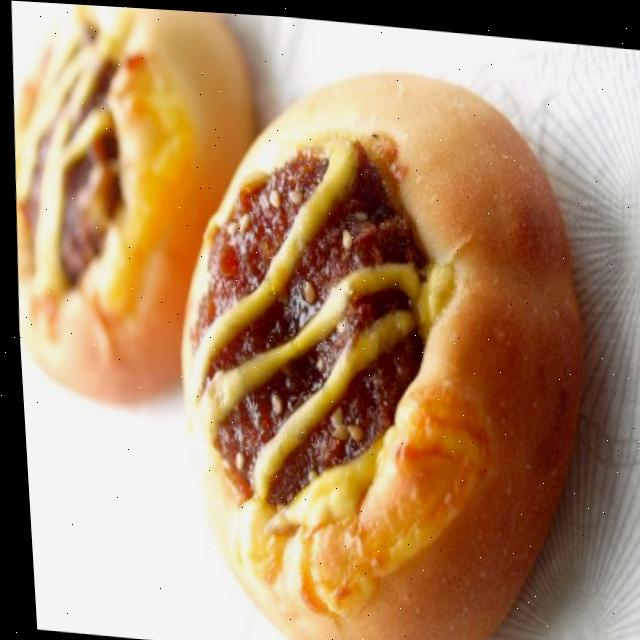三明治: (148, 36, 620, 640)
